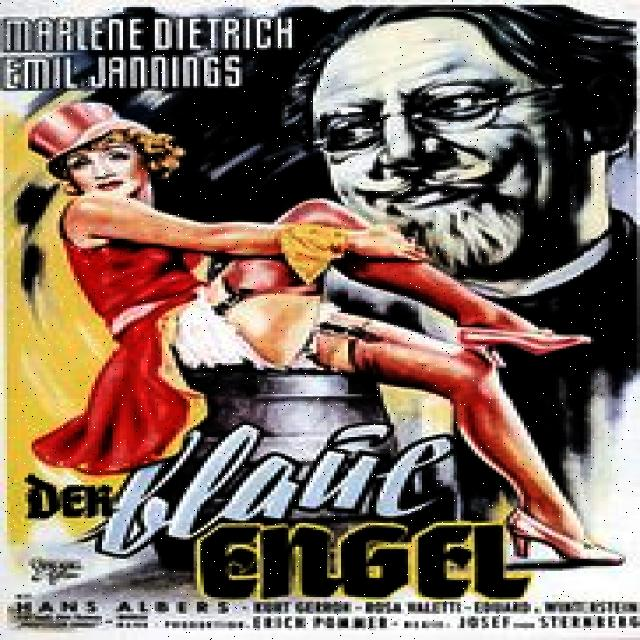movie-judul: (25, 429, 541, 610)
picture: (12, 18, 624, 449)
